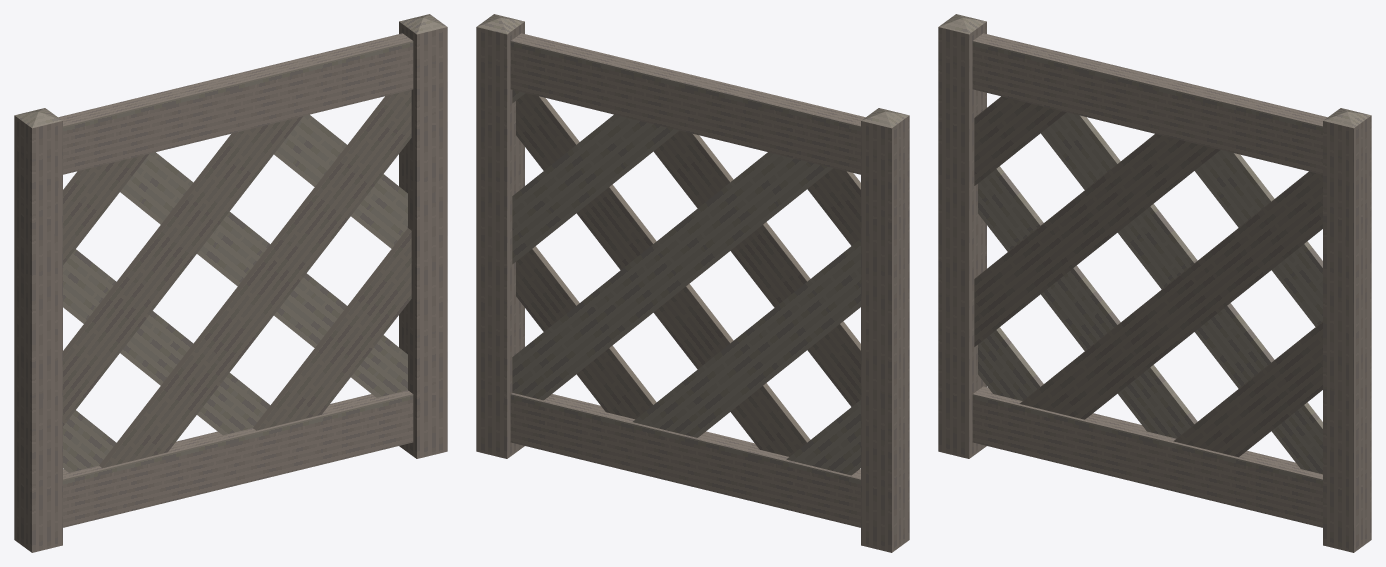
File: 031e_Florist_Fence.glb
3 views of the same model, side by side, from view 1: azimuth 30°, elevation 25°; view 2: azimuth 150°, elevation 25°; view 3: azimuth 330°, elevation 25° (orthographic).
Parts seen in each view (by area): view 1: part_0; view 2: part_0; view 3: part_0.
Boxes of the visible parts, left/top/right/bottom form: part_0: left=14, top=14, right=447, bottom=552; part_0: left=476, top=14, right=909, bottom=552; part_0: left=938, top=14, right=1371, bottom=552.
Size of the model in its own units: 1.35 by 1.34 by 0.1.
Materials: 1 (1 with a texture image).
